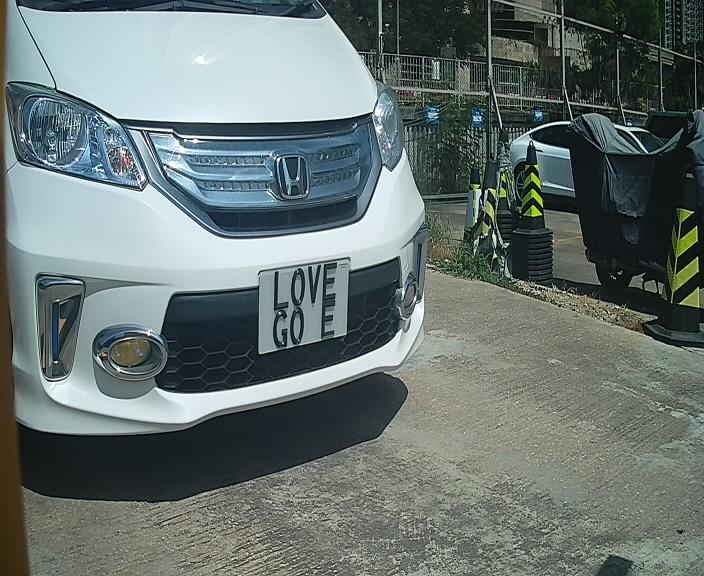License Plate: (252, 242, 356, 363)
